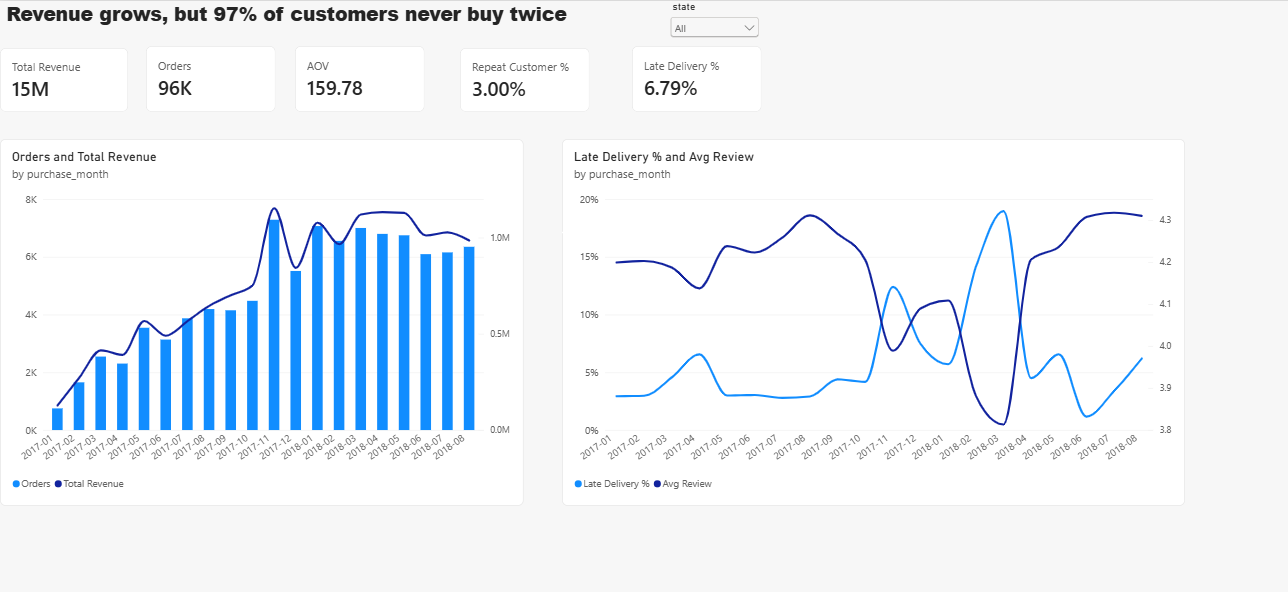

This screenshot's page, from the dashboard's own definition file:
{"tool":"powerbi","page":{"name":"Page 1","canvas":[1920,1080],"ordinal":0},"visuals":[{"type":"cardVisual","fields":{"Data":["order_facts.Total Revenue"]},"box":[0,67.1,183.8,91.9],"z":0},{"type":"cardVisual","fields":{"Data":["order_facts.Orders"]},"box":[208.6,64.2,185.3,94.8],"z":1000},{"type":"cardVisual","fields":{"Data":["order_facts.AOV"]},"box":[421.6,64.2,185.3,94.8],"z":2000},{"type":"cardVisual","fields":{"Data":["order_facts.Repeat Customer %"]},"box":[656.5,67.1,185.3,91.9],"z":3000},{"type":"cardVisual","fields":{"Data":["order_facts.Late Delivery %"]},"box":[903.1,64.2,185.3,94.8],"z":4000},{"type":"lineClusteredColumnComboChart","fields":{"Category":["order_facts.purchase_month"],"Y":["order_facts.Orders"],"Y2":["order_facts.Total Revenue"]},"box":[0,197,748.4,523.8],"z":5000},{"type":"lineChart","fields":{"Category":["order_facts.purchase_month"],"Y":["order_facts.Late Delivery %"],"Y2":["order_facts.Avg Review"]},"box":[802.4,197,890,523.8],"z":6000},{"type":"slicer","fields":{"Values":["order_facts.state"]},"box":[952.7,0,135.7,67.1],"z":7000},{"type":"textbox","box":[10,580,292,280],"z":8000},{"type":"textbox","box":[10,870,292,210],"z":9000},{"type":"textbox","box":[0,0,841.8,64.2],"z":10000}]}

Visuals, with their boxes on the page's 1920x1080 design canvas (x1, y1, x2, y2). These are canvas units, not pixel positions in the 1288x592 screenshot, which may show the page scaled, cropped or inside an application window:
cardVisual - order_facts.Total Revenue: {"x1": 0, "y1": 67, "x2": 184, "y2": 159}
cardVisual - order_facts.Orders: {"x1": 209, "y1": 64, "x2": 394, "y2": 159}
cardVisual - order_facts.AOV: {"x1": 422, "y1": 64, "x2": 607, "y2": 159}
cardVisual - order_facts.Repeat Customer %: {"x1": 656, "y1": 67, "x2": 842, "y2": 159}
cardVisual - order_facts.Late Delivery %: {"x1": 903, "y1": 64, "x2": 1088, "y2": 159}
lineClusteredColumnComboChart - order_facts.purchase_month x order_facts.Orders: {"x1": 0, "y1": 197, "x2": 748, "y2": 721}
lineChart - order_facts.purchase_month x order_facts.Late Delivery %: {"x1": 802, "y1": 197, "x2": 1692, "y2": 721}
slicer - order_facts.state: {"x1": 953, "y1": 0, "x2": 1088, "y2": 67}
textbox: {"x1": 10, "y1": 580, "x2": 302, "y2": 860}
textbox: {"x1": 10, "y1": 870, "x2": 302, "y2": 1080}
textbox: {"x1": 0, "y1": 0, "x2": 842, "y2": 64}
